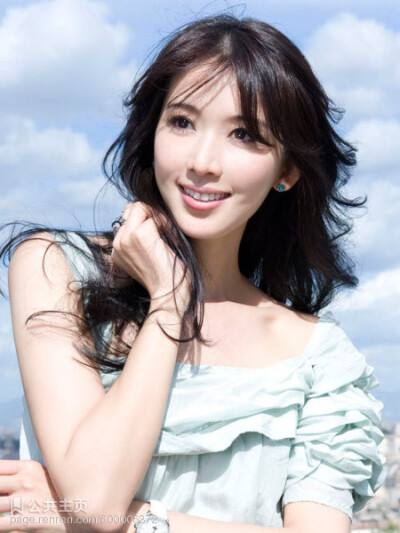person: (101, 31, 327, 484)
